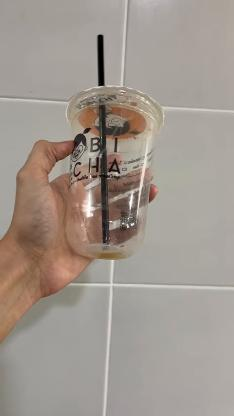Plastic Cup: (68, 82, 164, 262)
